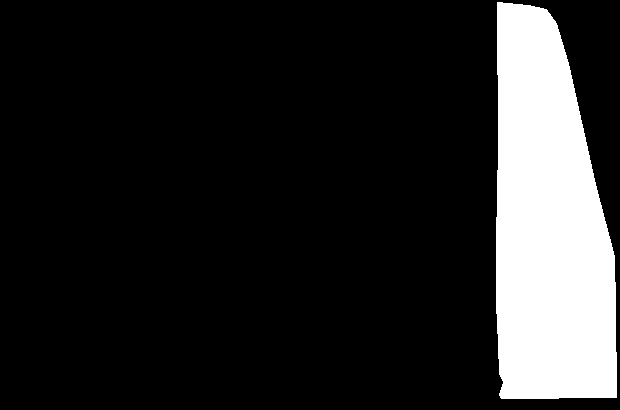type5: (494, 1, 619, 400)
